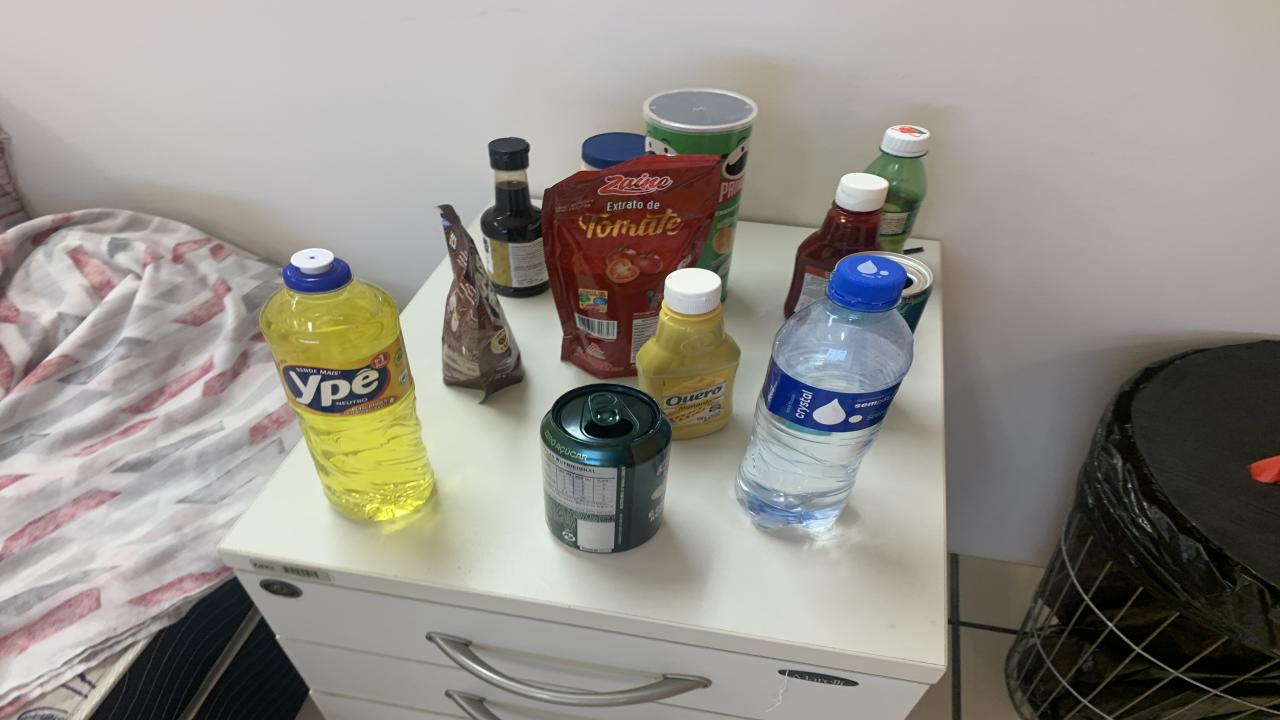Coffee-Pantry_Items: (438, 204, 525, 398)
Detergent-Cleanup_Items: (260, 248, 435, 519)
English_Sauce-Pantry_Items: (480, 137, 550, 296)
Guarana-Drinks: (865, 124, 930, 253)
Guarana_Can-Drinks: (540, 384, 672, 553)
Ketchup-Pantry_Items: (785, 172, 890, 319)
Mayonnaise-Pantry_Items: (582, 133, 645, 171)
Mustard-Pantry_Items: (638, 268, 740, 439)
Pringles-Snacks: (642, 88, 758, 298)
Tea-Drinks: (868, 251, 932, 332)
Tomato_Sauce-Pantry_Items: (542, 156, 722, 379)
Water_Bottle-Drinks: (738, 253, 912, 527)
